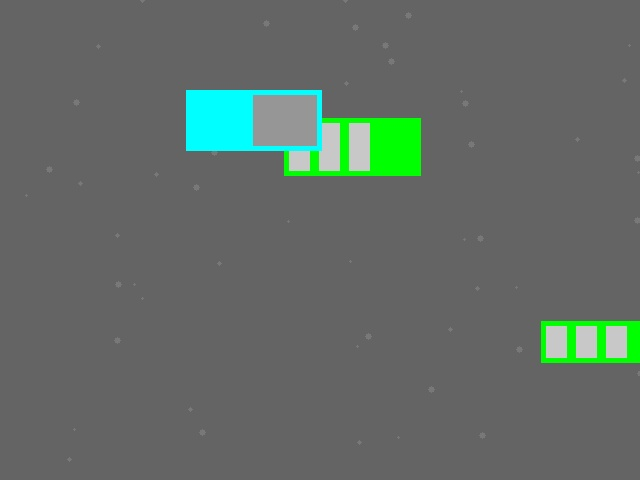bus: (284, 118, 420, 175), (541, 321, 640, 362)
truck: (186, 90, 321, 150)
